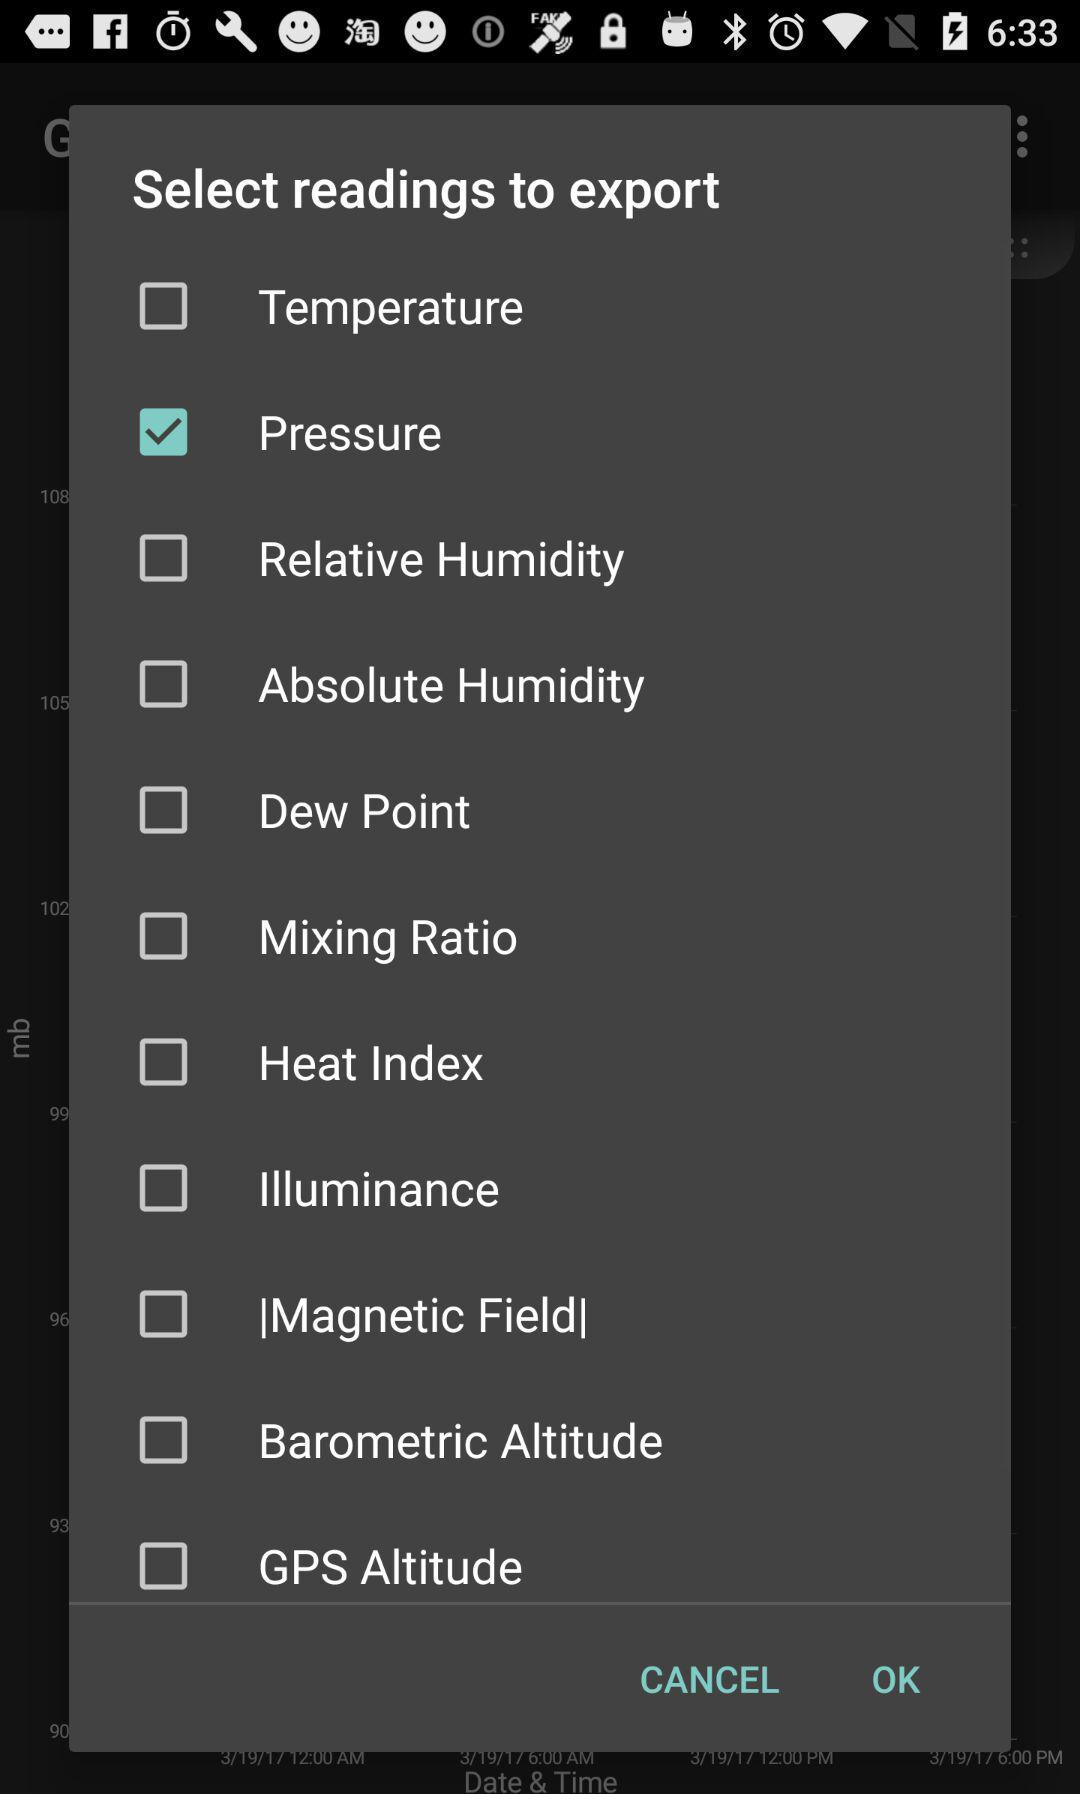CheckedTextView: (138, 660, 644, 714), (138, 533, 625, 587), (138, 1416, 662, 1465), (138, 1289, 585, 1343), (138, 282, 524, 336), (140, 911, 518, 965), (138, 1542, 523, 1592), (138, 1164, 498, 1214), (140, 1037, 484, 1087), (138, 786, 471, 835), (138, 407, 442, 457)
Modal: (70, 106, 1011, 1752)
Text: (135, 169, 720, 220), (259, 665, 644, 714), (261, 539, 625, 587), (261, 1296, 585, 1343), (263, 1422, 662, 1460), (259, 290, 524, 336), (261, 919, 518, 965), (261, 1548, 523, 1586), (261, 1170, 498, 1208), (261, 1044, 484, 1083), (261, 793, 471, 830), (263, 416, 442, 452), (641, 1666, 780, 1694), (872, 1665, 920, 1694)
UpperTaskBar: (1, 1, 1080, 64)
